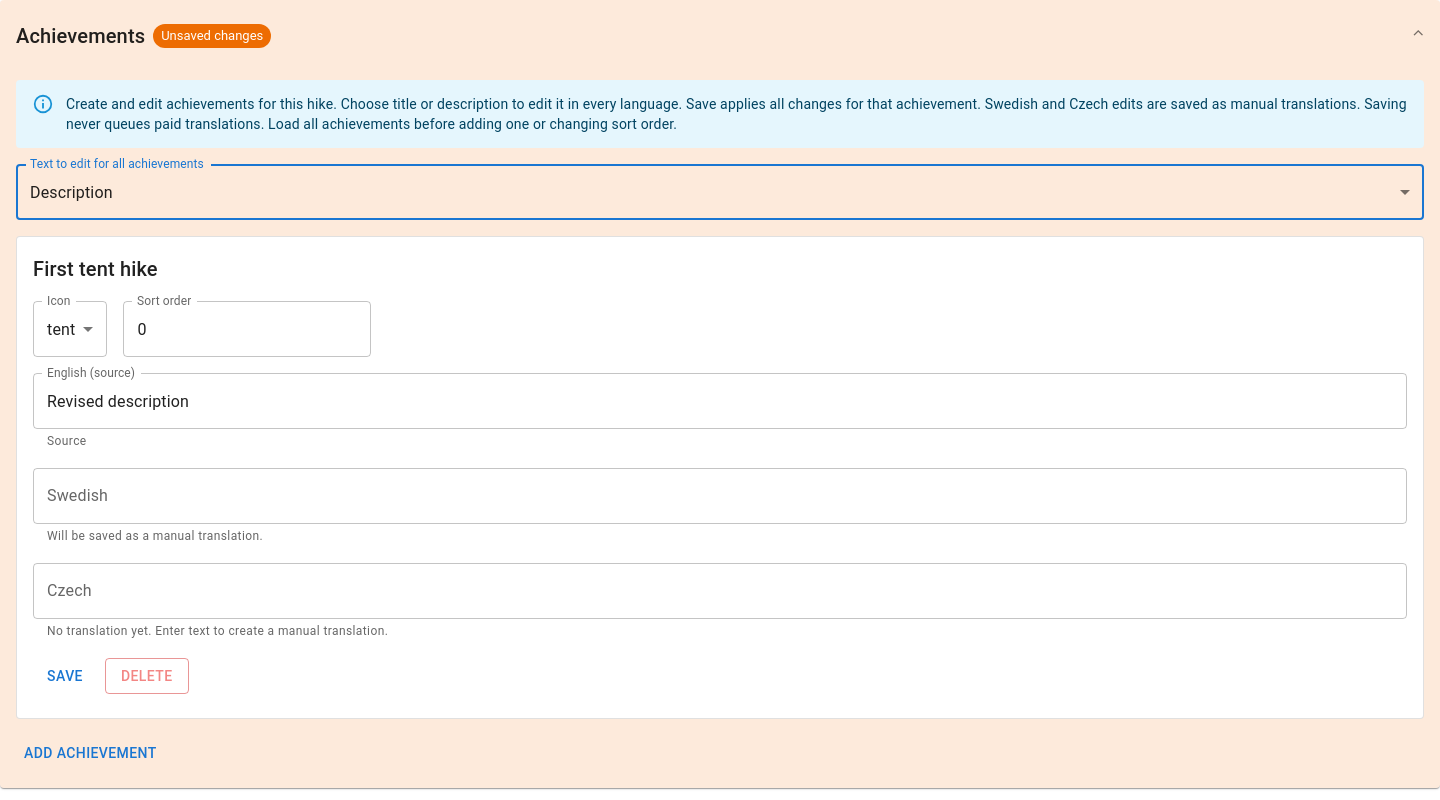
saves edited source and manual translations, keeping fallback text out of untranslated fields
This screenshot has width=1440, height=800.
Earlier steps of the test are not shown.
Click the button "Save": (65, 676) x1=33 y1=658 x2=97 y2=694
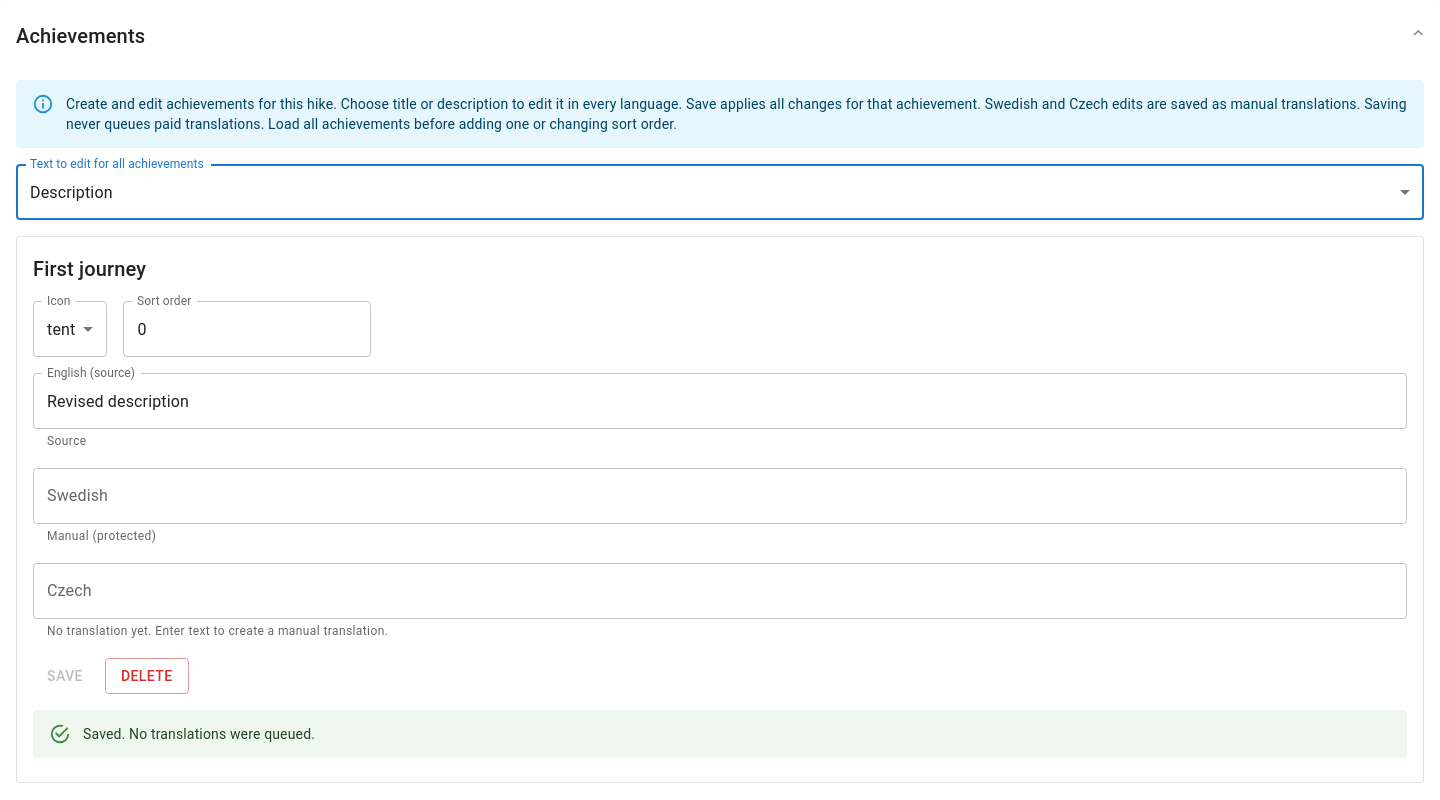
Expected: the text "Saved. No translations were queued." is shown, x1=83 y1=726 x2=315 y2=742
